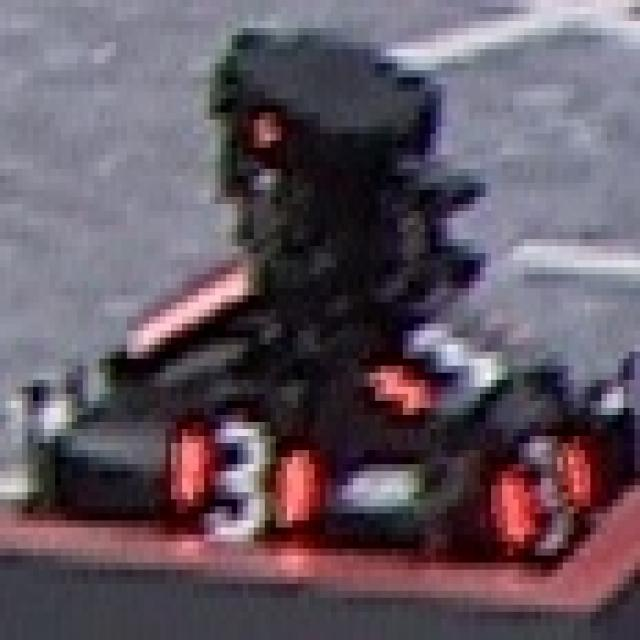R3: (143, 394, 320, 541), (356, 285, 494, 418), (480, 412, 596, 559)
